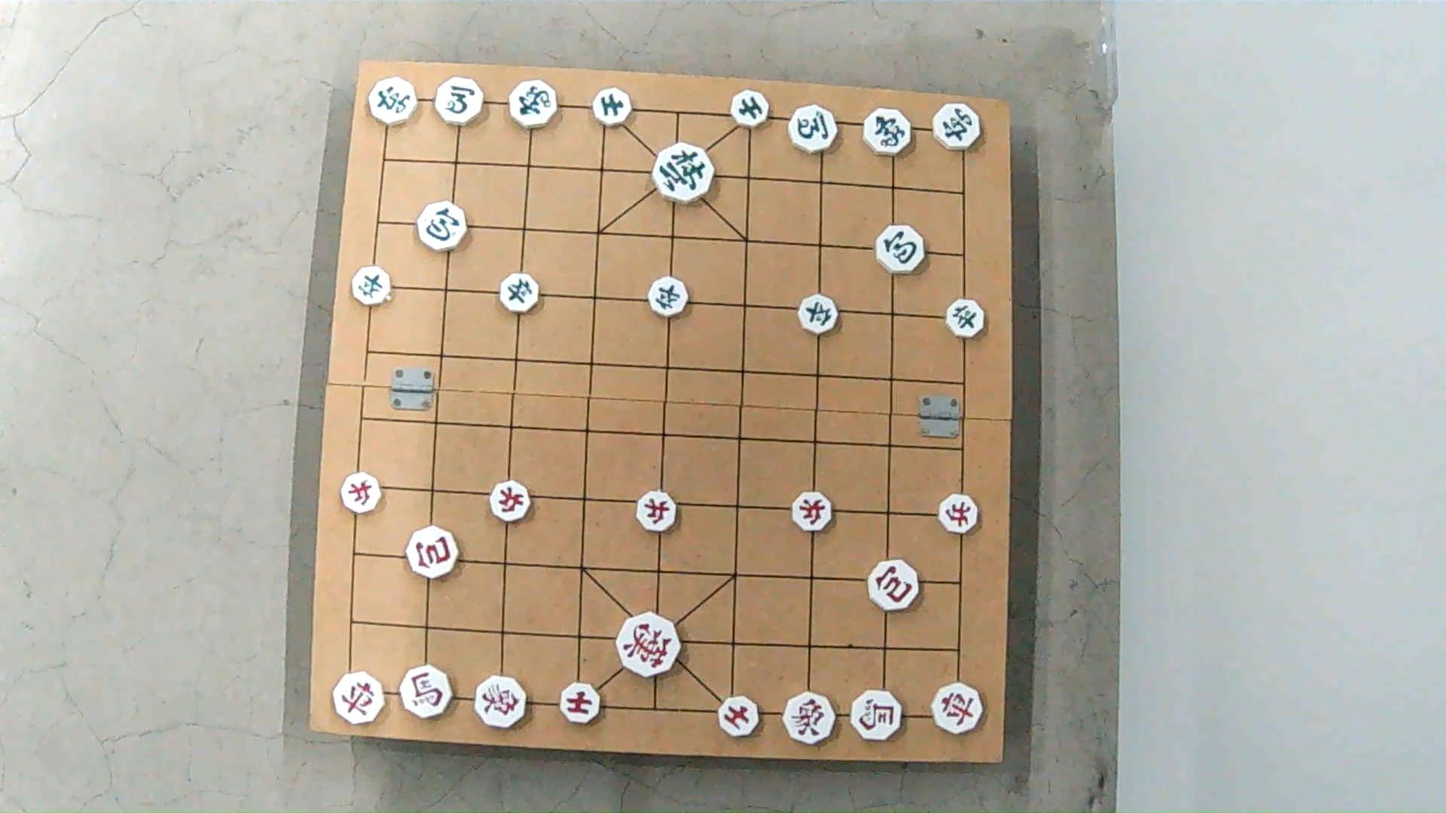cha_green: (367, 76, 419, 123), (935, 103, 981, 149)
cha_red: (332, 672, 385, 725), (932, 684, 984, 730)
jol_green: (496, 276, 538, 314), (352, 266, 395, 303), (798, 297, 840, 334), (646, 278, 688, 315), (944, 300, 985, 337)
jol_red: (635, 491, 678, 531), (487, 482, 529, 522), (791, 492, 833, 531), (937, 495, 978, 533), (338, 476, 380, 513)
ma_green: (788, 105, 839, 151), (432, 79, 484, 123)
ma_red: (399, 665, 454, 720), (850, 690, 901, 740)
po_green: (417, 201, 467, 249), (873, 227, 923, 273)
po_red: (407, 530, 459, 580), (865, 561, 917, 609)
sa_green: (593, 89, 634, 124), (729, 93, 770, 128)
sa_red: (718, 693, 761, 735), (560, 683, 601, 721)
sang_green: (864, 105, 914, 156), (507, 81, 560, 128)
sang_red: (475, 675, 527, 728), (783, 693, 837, 744)
wang_green: (652, 145, 716, 202)
wang_red: (616, 614, 683, 673)
